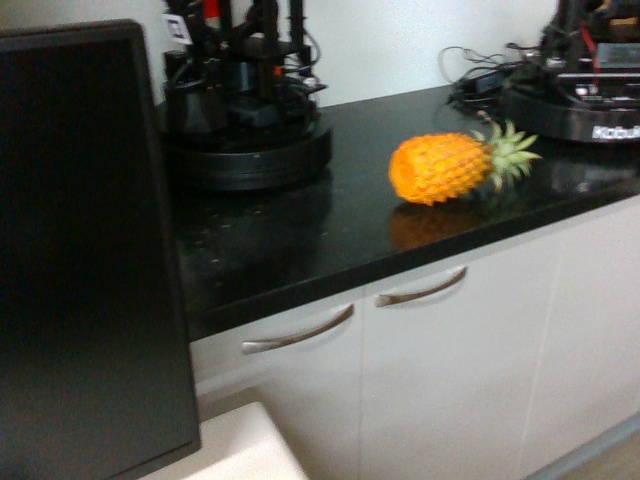pineapple: (382, 120, 539, 206)
